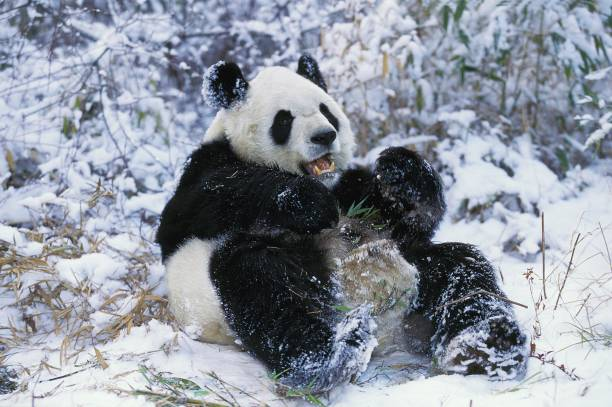panda: (188, 42, 404, 203)
